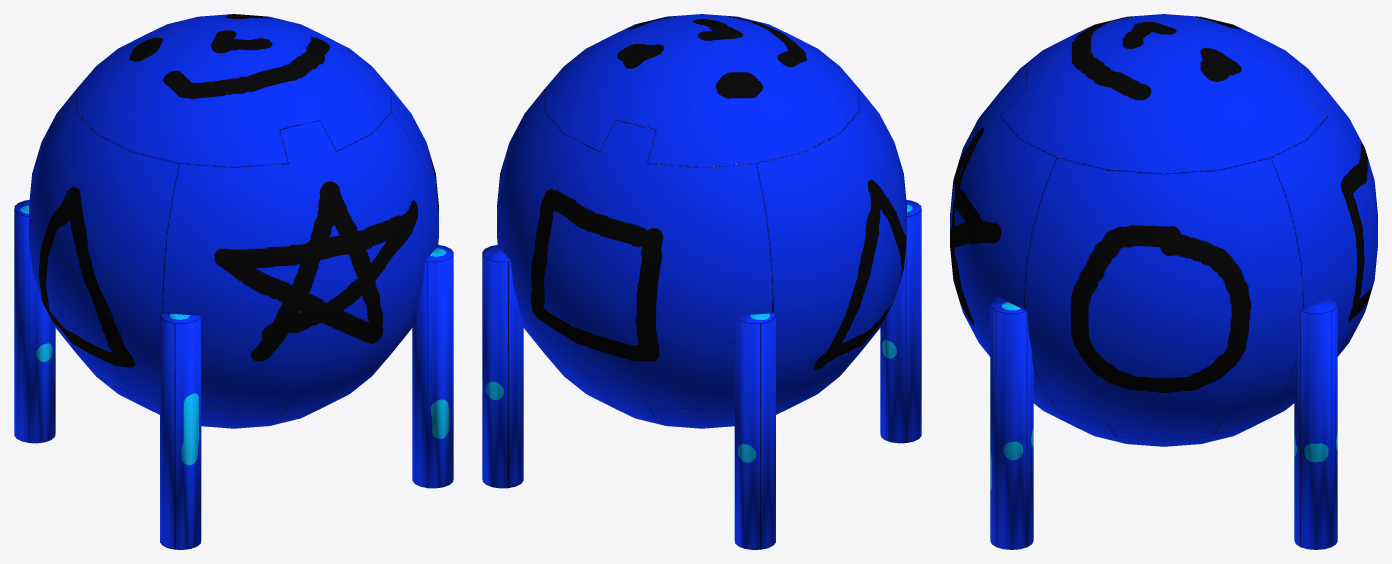
File: sphereTank.obj
3 views of the same model, side by side, from view 1: azimuth 30°, elevation 25°; view 2: azimuth 150°, elevation 25°; view 3: azimuth 270°, elevation 25° (orthographic). The views are drawn at different scales.
Visible parts, largest first — view 1: sphere1; view 2: sphere1; view 3: sphere1.
Part boxes in pixels (x1,y1,x2,y2): sphere1: (14,14,453,549); sphere1: (482,14,921,549); sphere1: (950,14,1377,549).
Size of the model in its own units: 1 by 1.12 by 0.9848.
1 material, 1 textured.
